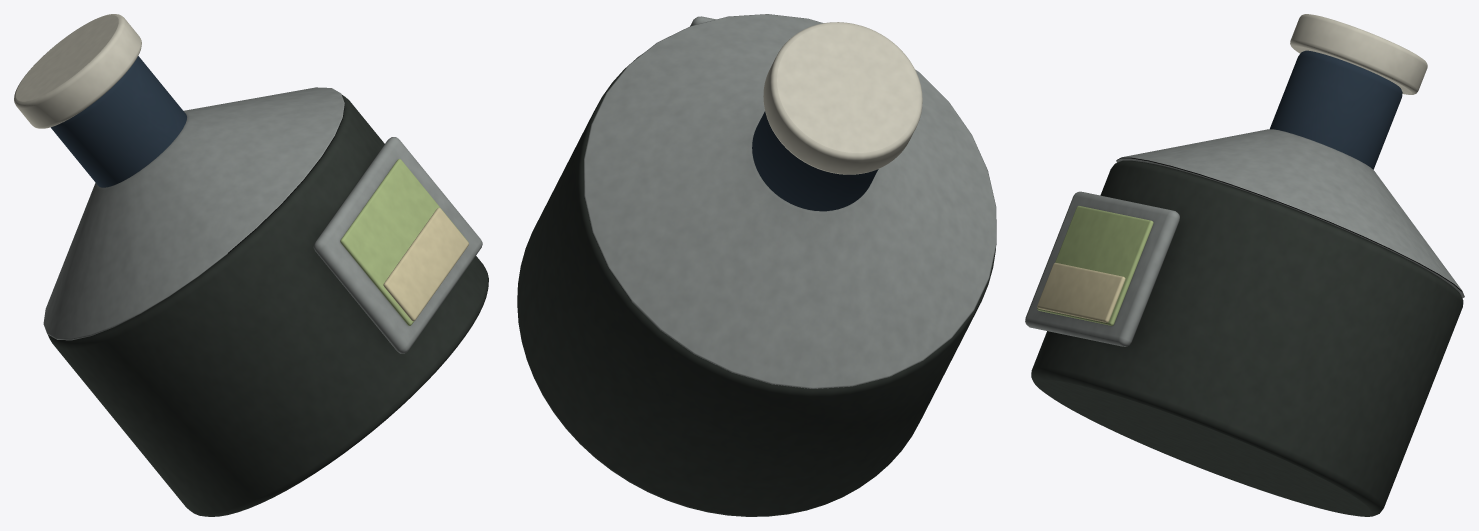
3 views of the same model, side by side, from view 1: azimuth 30°, elevation 25°; view 2: azimuth 150°, elevation 25°; view 3: azimuth 270°, elevation 25° (orthographic). The views are drawn at different scales.
Parts seen in each view (by area): view 1: Closed sample vessel; view 2: Closed sample vessel; view 3: Closed sample vessel.
Boxes of the visible parts, x1,y1,x2,y2 form: Closed sample vessel: (14, 14, 488, 516); Closed sample vessel: (517, 14, 996, 516); Closed sample vessel: (1025, 14, 1464, 516).
Bounding box in the file's own units: 1.03 × 1.17 × 1.02.
1 material, 1 textured.
